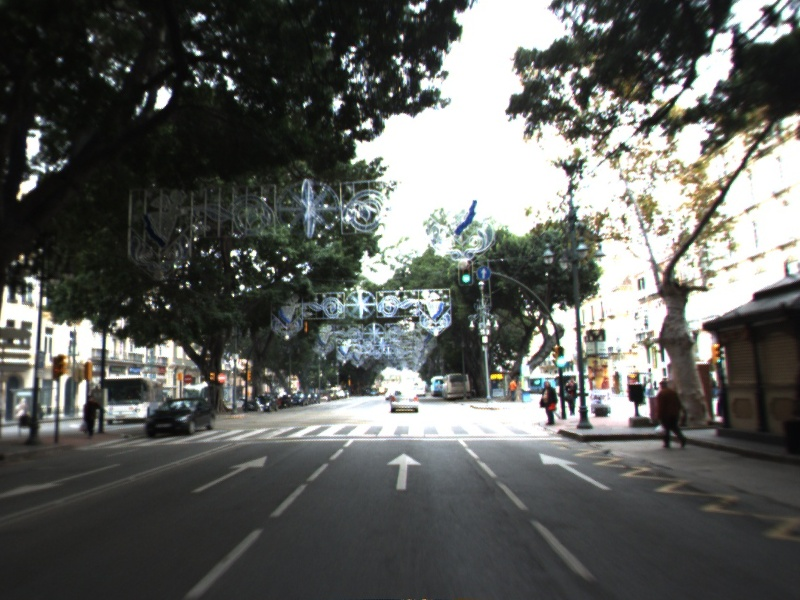STRAIGHT: (189, 454, 270, 495), (537, 451, 614, 492), (384, 450, 424, 492)
